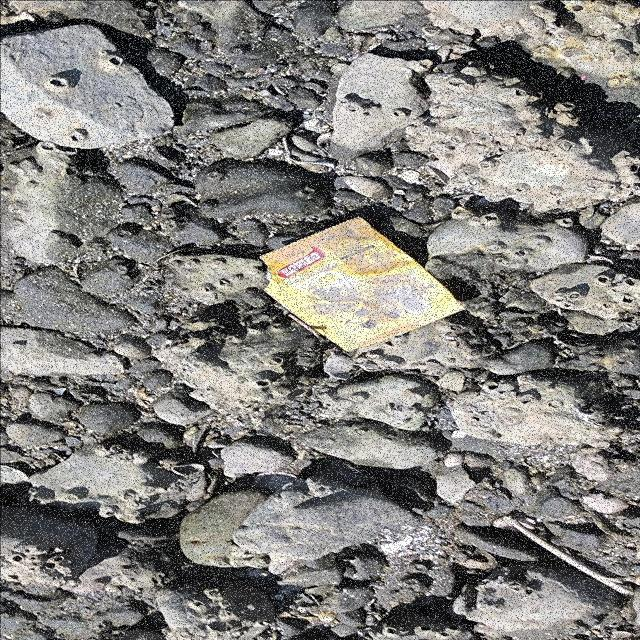plastic_waste: (243, 217, 471, 356)
